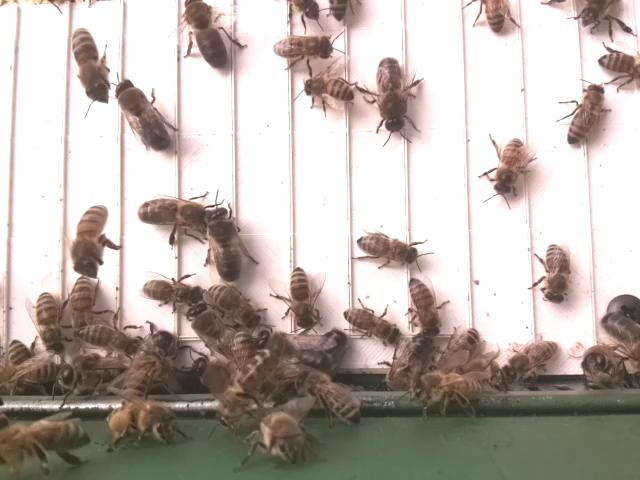Drone: (111, 78, 173, 153), (205, 202, 246, 286), (183, 0, 231, 70), (375, 54, 412, 138), (135, 194, 213, 232)
Worker: (203, 281, 262, 331), (565, 82, 608, 147), (71, 25, 109, 98), (74, 202, 110, 271), (354, 231, 421, 268), (342, 304, 401, 346), (500, 337, 561, 377), (406, 276, 444, 339), (34, 287, 68, 356), (74, 323, 143, 356), (286, 261, 318, 332), (540, 241, 575, 304), (491, 137, 527, 198), (65, 272, 98, 337), (143, 277, 206, 308), (270, 33, 335, 63), (300, 73, 356, 104)
